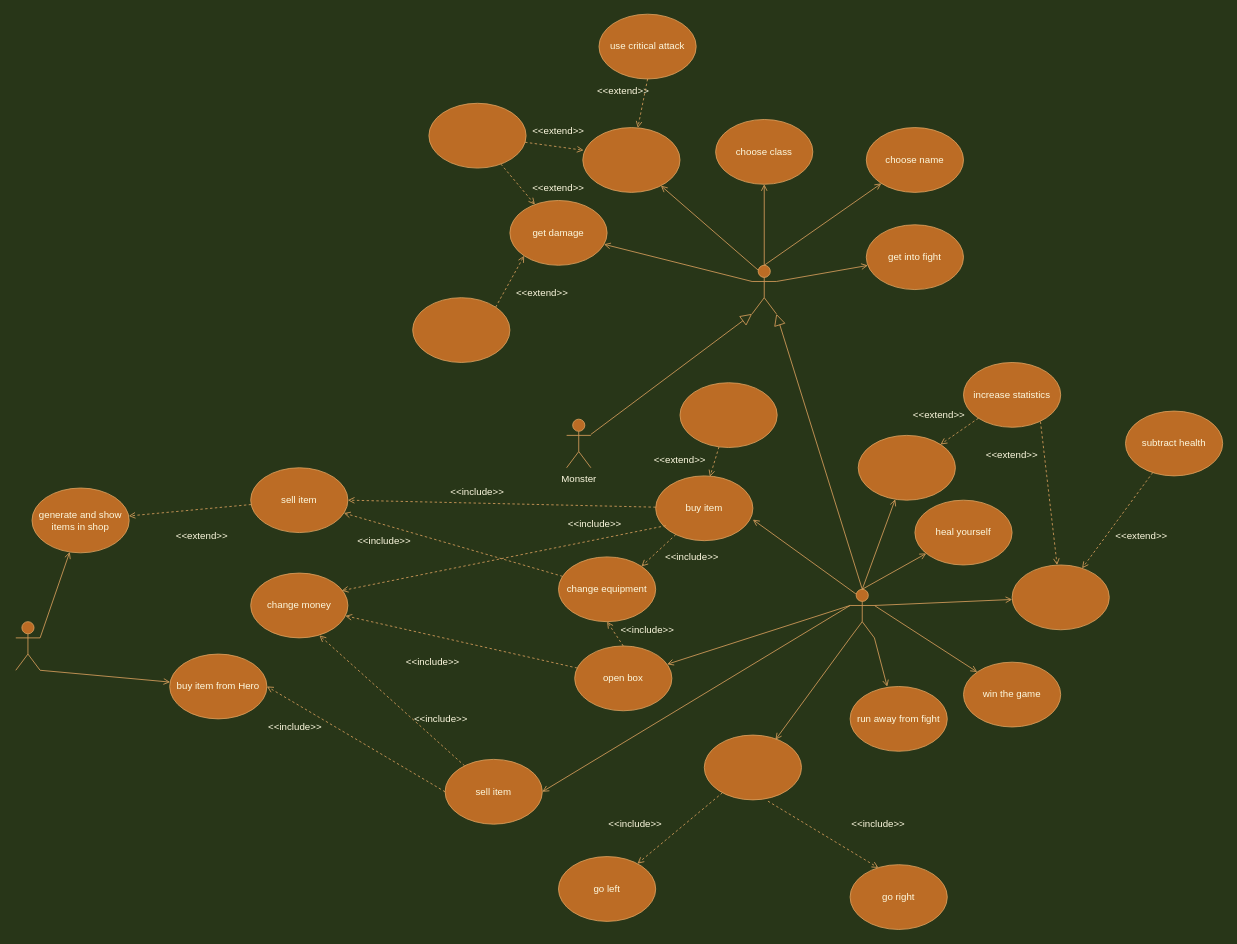
Image size: 1237x944. Some labels were removed from this diagram. The shapes that lost their labels are listed below. From the top down, each one's centre as x and y in pixels, then its label:
At point (477, 135): "use special effect".
At point (631, 159): "attack opponent".
At point (763, 289): "Character".
At point (461, 329): "death".
At point (728, 415): "not enough money".
At point (906, 467): "level up".
At point (861, 613): "Hero".
At point (1060, 597): "drink potion".
At point (27, 645): "Trader".
At point (752, 767): "choose and go next chamber".
